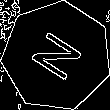N_SE: (25, 26, 89, 87)
